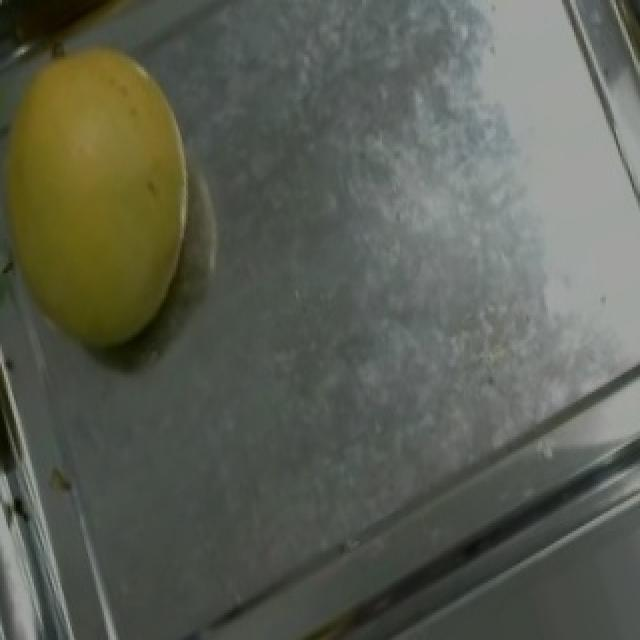fruit: (0, 10, 266, 387)
